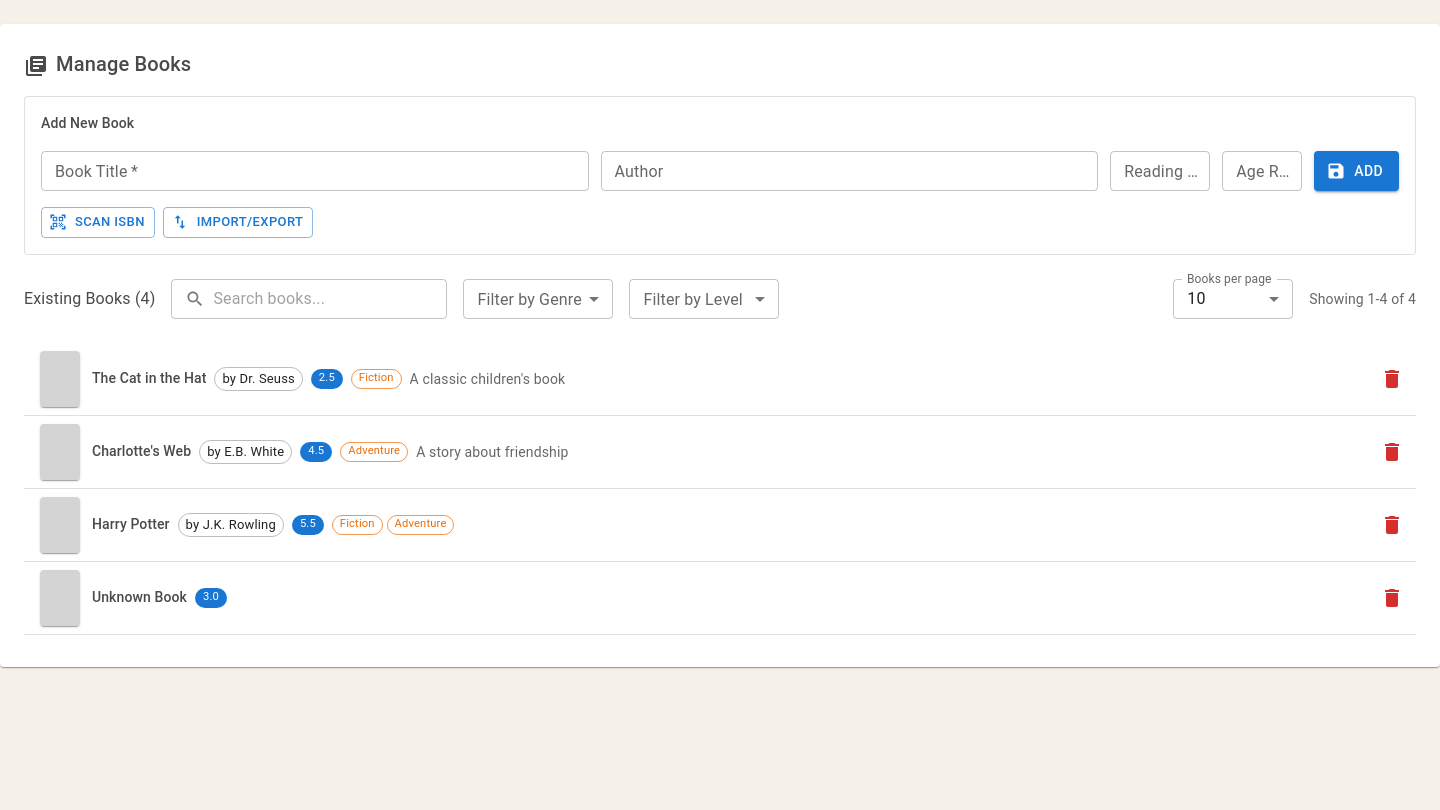
BookManager Component › Genre Filter › should show all books when "All Genres" is selected
The image size is (1440, 810).
First filter by genre
Click the dropdown next to "Filter by Genre". click: (538, 299)
box: [463,279,613,319]
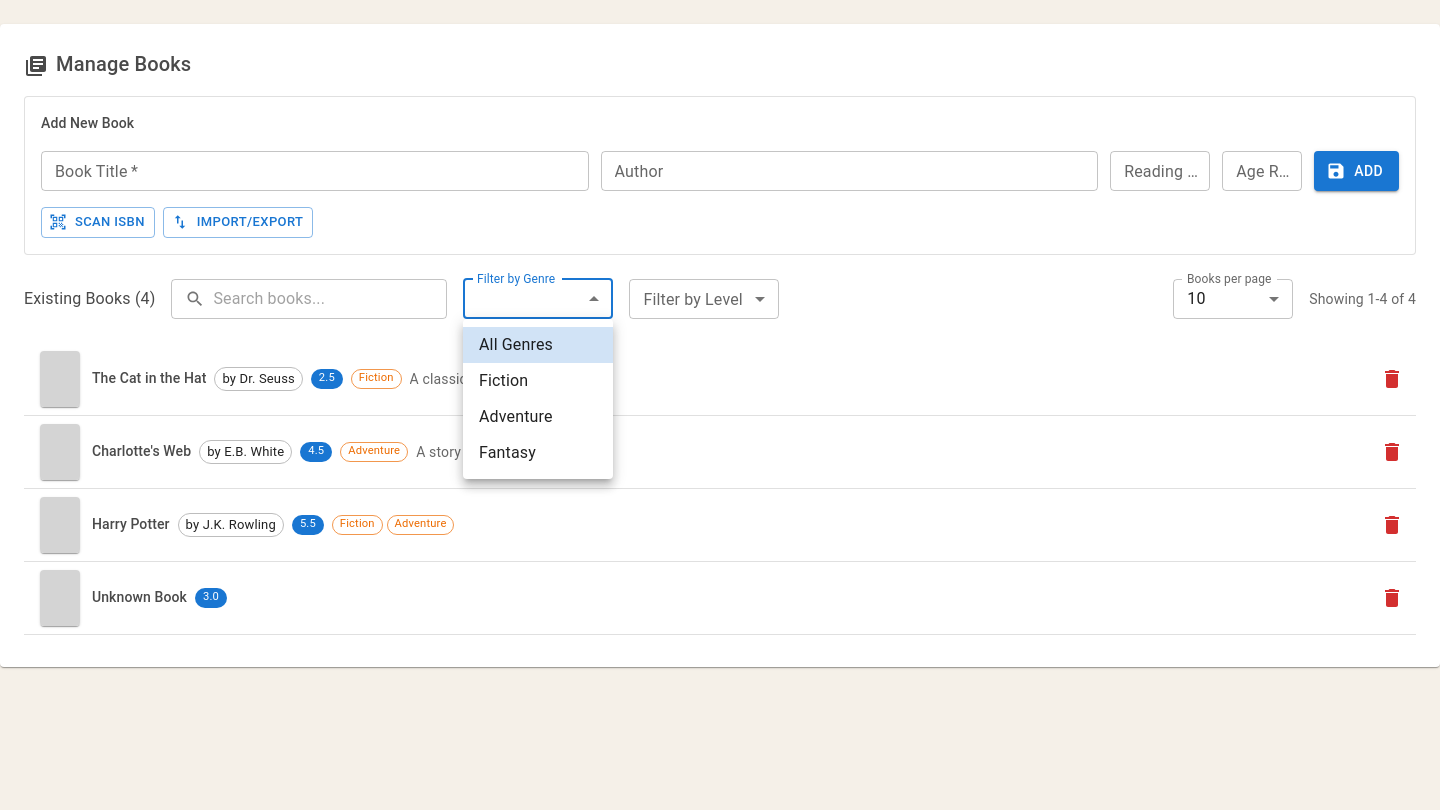
Click the option "Fiction". click: (504, 380)
box: [479,371,528,390]
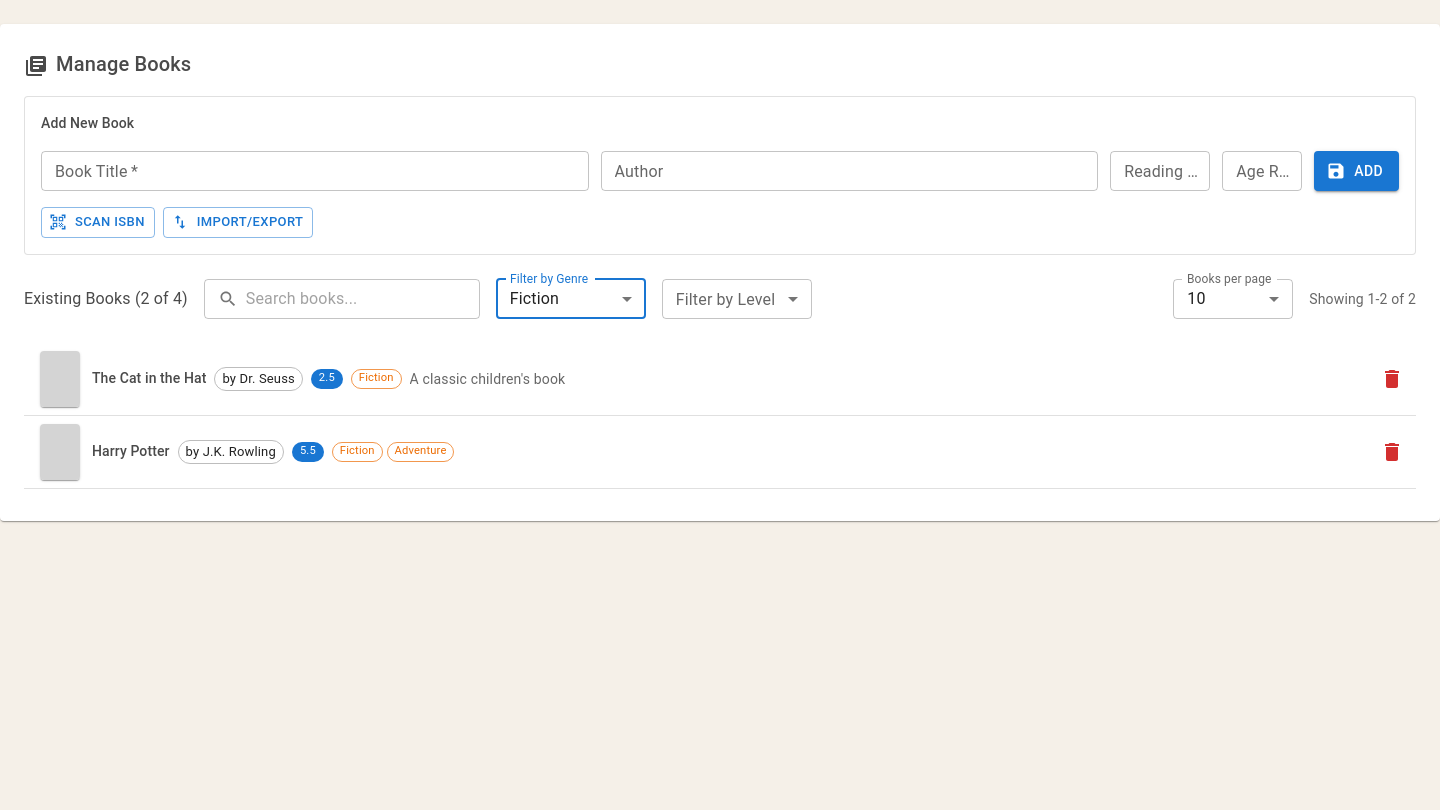
Then select "All Genres"
Click the dropdown labelled "Fiction". click: (534, 299)
box: [510,289,559,308]
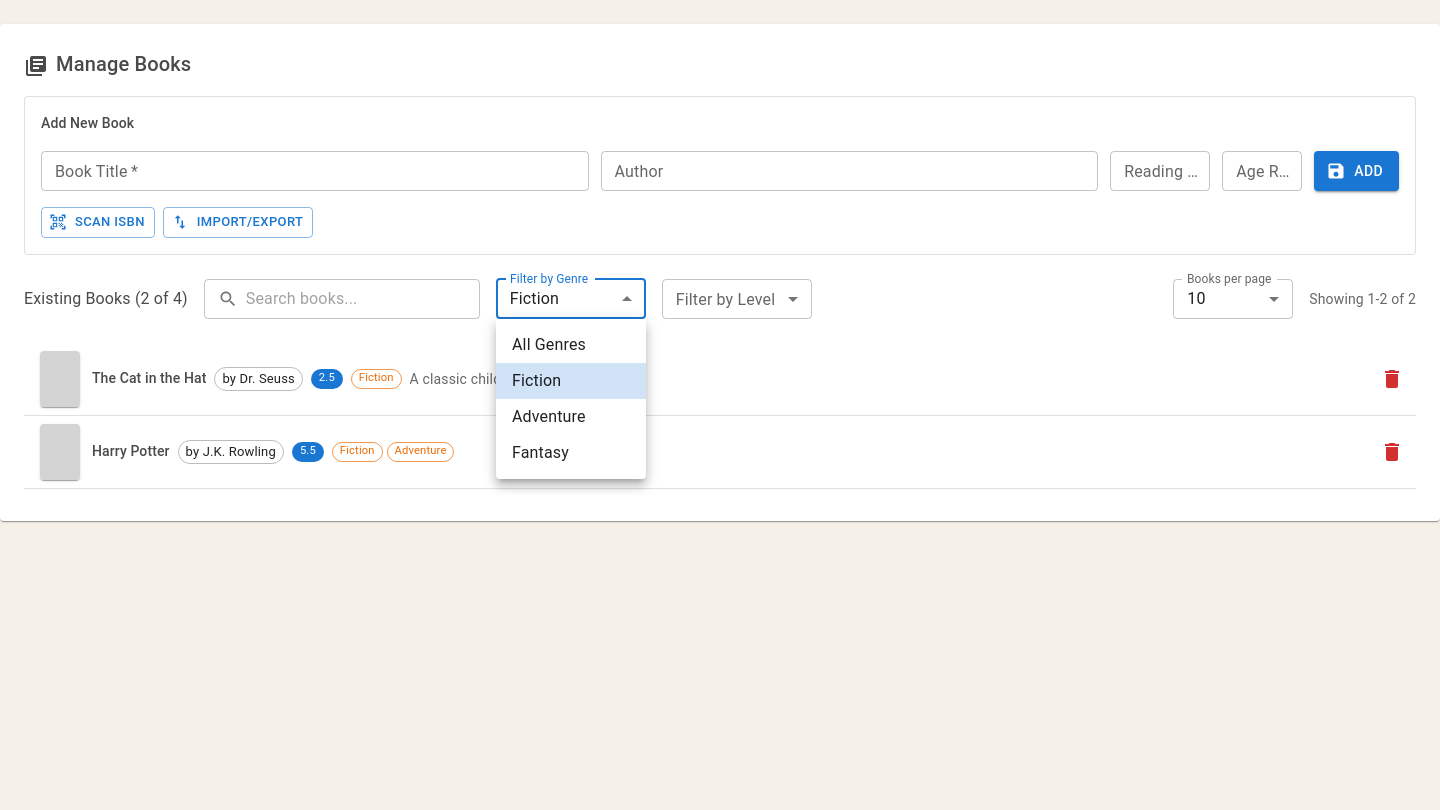
Click the option "All Genres". click: (549, 344)
box: [512,335,586,354]
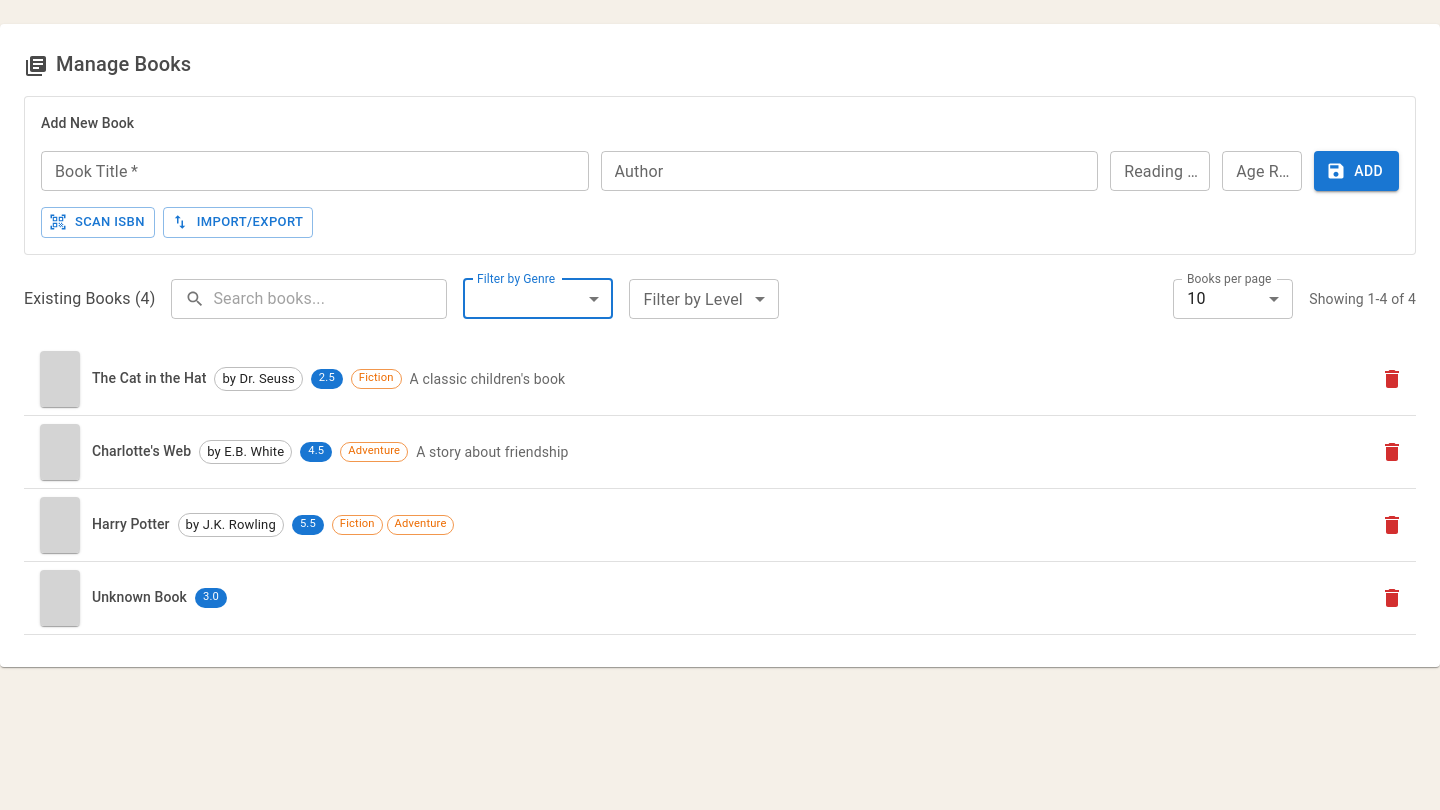
Expected: the heading "The Cat in the Hat" is shown, [92,368,206,390]
Result: the heading "Charlotte's Web" is shown at [92,441,191,463]
